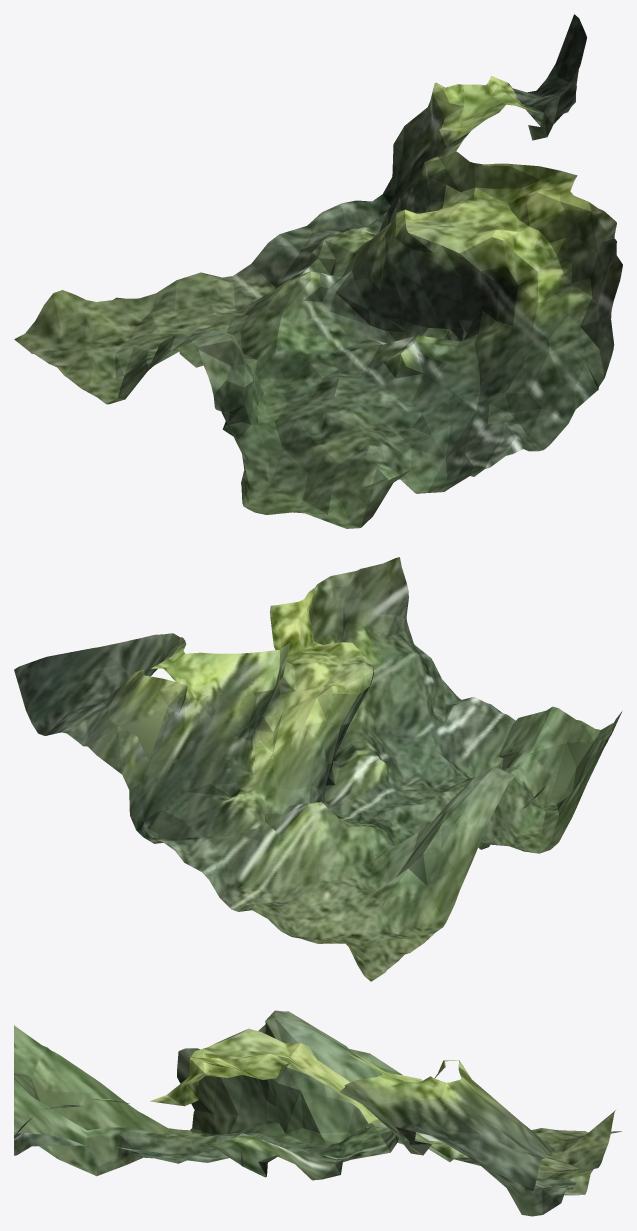
3 views of the same model, one above another, from view 1: azimuth 30°, elevation 25°; view 2: azimuth 150°, elevation 25°; view 3: azimuth 270°, elevation 25° (orthographic). The views are drawn at different scales.
Bounding box in the file's own units: 10.04 × 4.55 × 11.02.
2 materials, 2 textured.
